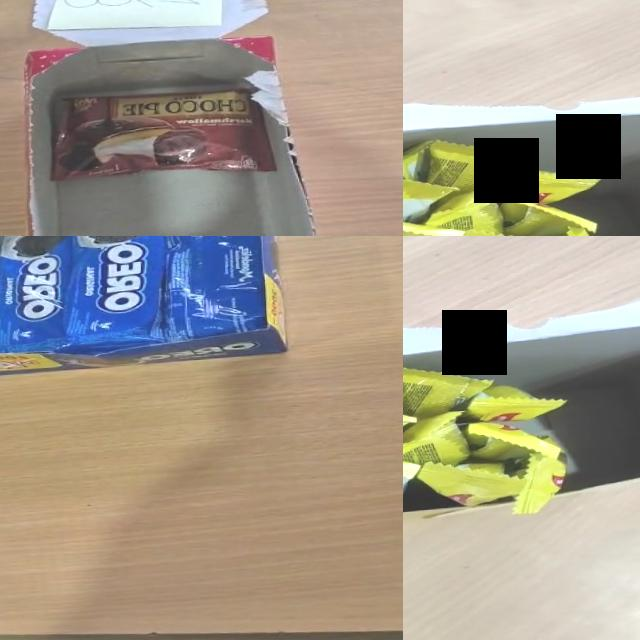Ahh: (422, 135, 532, 202), (497, 166, 602, 223), (415, 460, 527, 509), (403, 361, 497, 419), (459, 381, 568, 425), (423, 183, 507, 236), (403, 410, 477, 470), (462, 418, 562, 462), (501, 193, 600, 236), (506, 450, 568, 514), (403, 169, 462, 226), (403, 140, 436, 206)
Chocopie: (45, 84, 278, 182)
Oreo: (49, 236, 181, 356), (152, 236, 270, 341), (0, 236, 80, 355)
